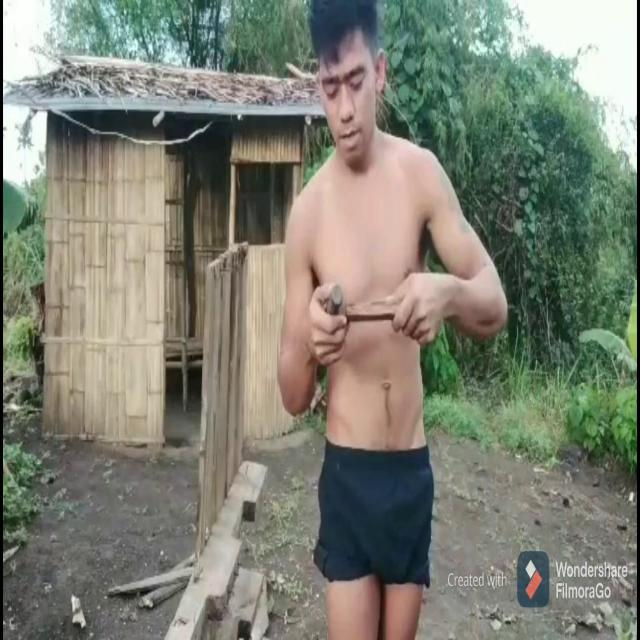hammer: (325, 284, 404, 323)
